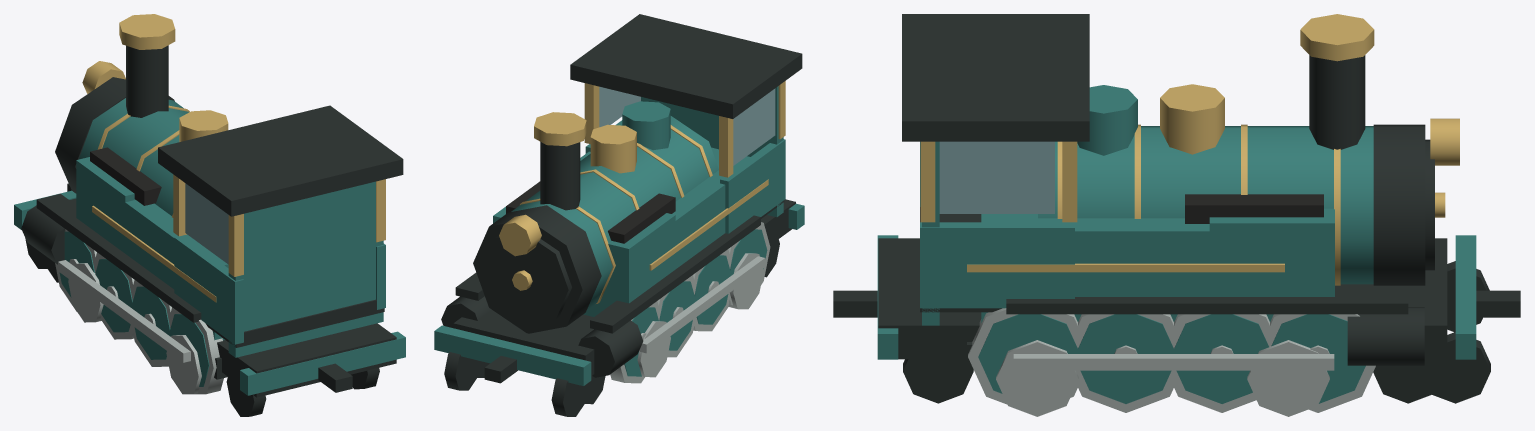
Rendered from alpine-monarch-lod2.glb.
3 views of the same model, side by side, from view 1: azimuth 30°, elevation 25°; view 2: azimuth 150°, elevation 25°; view 3: azimuth 270°, elevation 25° (orthographic). The views are drawn at different scales.
Parts seen in each view (by area): view 1: frame.002, boiler.002, door_handle.002, water_tank.002, rod_-0.002, cab_glass.002, coal_bed.002, wheel_face.018, wheel_face.017, tender_wheel.009, tender_wheel.008, wheel_face.019 (+7 smaller); view 2: frame.002, boiler.002, door_handle.002, water_tank.002, cab_glass.002, rod_-0.002, coal_bed.002, wheel_face.018, wheel_face.017, pony_wheel.016, pony_wheel.013, tender_wheel.009 (+9 smaller); view 3: frame.002, boiler.002, water_tank.002, door_handle.002, cab_glass.002, rod_0.002, wheel_face.022, wheel_face.021, tender_wheel.011, tender_wheel.010, coal_bed.002, wheel_face.020 (+10 smaller).
Boxes of the visible parts, x1,y1,x2,y2 form: frame.002: [21, 45, 403, 397]; boiler.002: [14, 98, 405, 395]; door_handle.002: [82, 14, 385, 276]; water_tank.002: [76, 157, 228, 340]; rod_-0.002: [58, 260, 190, 362]; cab_glass.002: [185, 183, 228, 264]; coal_bed.002: [90, 147, 161, 205]; wheel_face.018: [132, 286, 170, 359]; wheel_face.017: [95, 259, 133, 332]; tender_wheel.009: [166, 335, 201, 394]; tender_wheel.008: [68, 263, 103, 322]; wheel_face.019: [170, 314, 209, 386]; frame.002: [441, 14, 802, 383]; boiler.002: [434, 86, 804, 385]; door_handle.002: [499, 81, 785, 303]; water_tank.002: [493, 147, 749, 316]; cab_glass.002: [599, 86, 775, 165]; rod_-0.002: [639, 256, 765, 353]; coal_bed.002: [506, 181, 675, 243]; wheel_face.018: [694, 255, 730, 324]; wheel_face.017: [659, 281, 695, 350]; pony_wheel.016: [444, 352, 480, 390]; pony_wheel.013: [551, 378, 586, 416]; tender_wheel.009: [728, 253, 763, 309]; frame.002: [833, 14, 1520, 365]; boiler.002: [877, 85, 1476, 359]; water_tank.002: [981, 208, 1334, 322]; door_handle.002: [920, 14, 1459, 285]; cab_glass.002: [939, 141, 1054, 213]; rod_0.002: [1013, 354, 1334, 370]; wheel_face.022: [1076, 314, 1175, 403]; wheel_face.021: [1172, 314, 1268, 403]; tender_wheel.011: [996, 340, 1078, 416]; tender_wheel.010: [1247, 340, 1329, 416]; coal_bed.002: [1185, 194, 1323, 223]; wheel_face.020: [1271, 314, 1365, 403].
Bounding box in the file's own units: 1.84 × 2.51 × 4.65.
